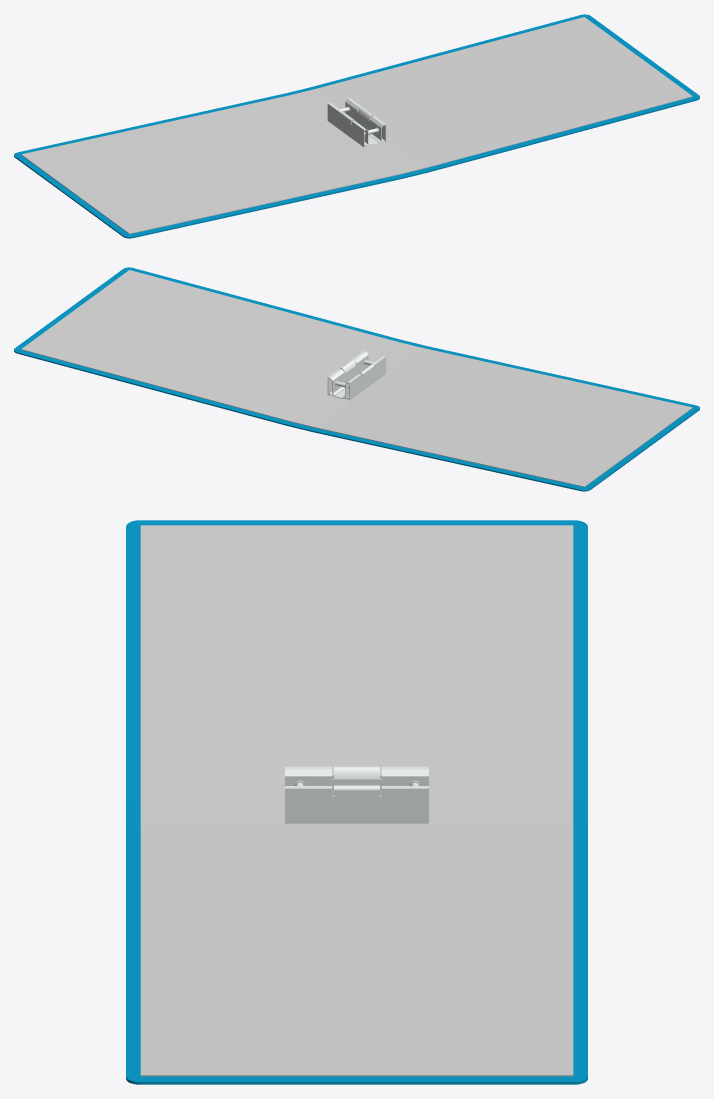
The model's file is 459_パイプ式ファイルA3開.glb.
3 views of the same model, one above another, from view 1: azimuth 30°, elevation 25°; view 2: azimuth 150°, elevation 25°; view 3: azimuth 270°, elevation 25° (orthographic). The views are drawn at different scales.
Parts seen in each view (by area): view 1: 459_pipe_file_A3_open; view 2: 459_pipe_file_A3_open; view 3: 459_pipe_file_A3_open.
Boxes of the visible parts, x1=… form: 459_pipe_file_A3_open: x1=14, y1=14, x2=699, y2=238; 459_pipe_file_A3_open: x1=14, y1=267, x2=699, y2=491; 459_pipe_file_A3_open: x1=126, y1=520, x2=587, y2=1084.
Bounding box in the file's own units: 0.9215 × 0.031 × 0.32.
